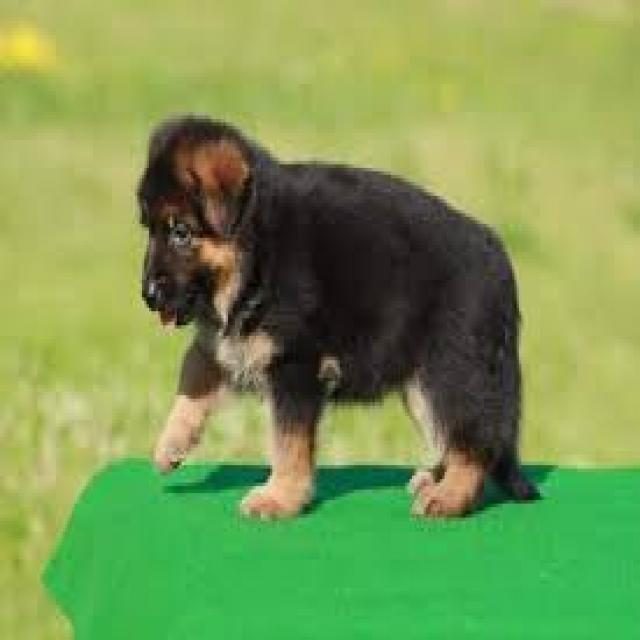Dog: (135, 114, 542, 528)
